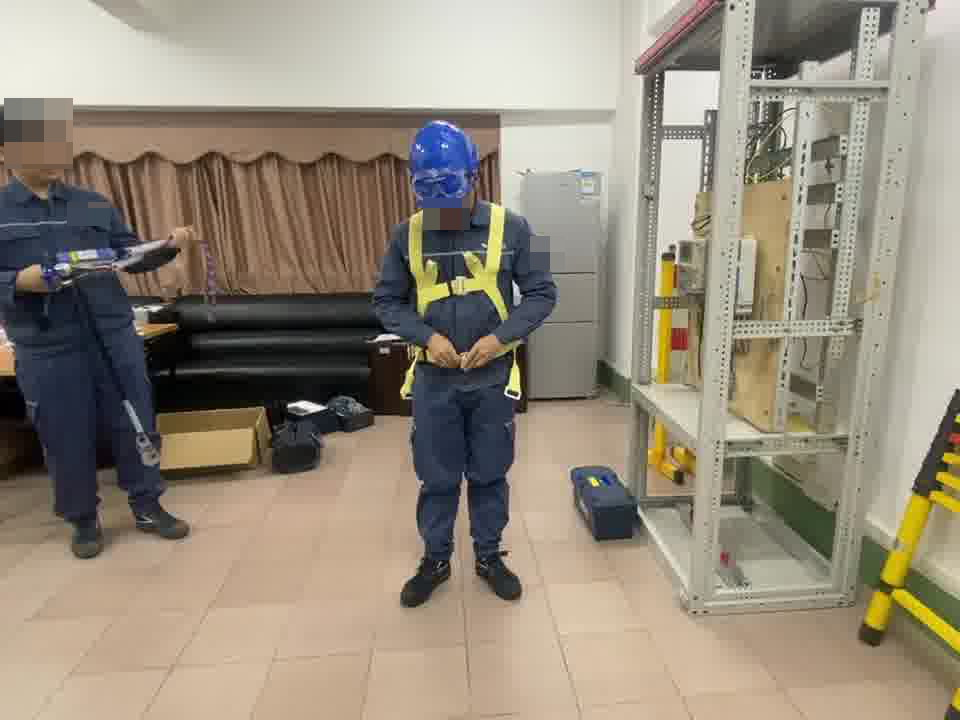downsuit: (16, 356, 158, 523), (409, 388, 518, 562)
halt: (408, 121, 482, 218)
hand: (15, 262, 54, 295), (466, 331, 497, 370), (426, 335, 457, 365), (166, 224, 195, 249)
person: (375, 117, 559, 601), (1, 110, 176, 553)
safebelt: (396, 201, 531, 397)
sleeve: (532, 234, 546, 263)
unhalt: (1, 108, 60, 186)
upsuit: (378, 201, 555, 357), (1, 185, 138, 350)
